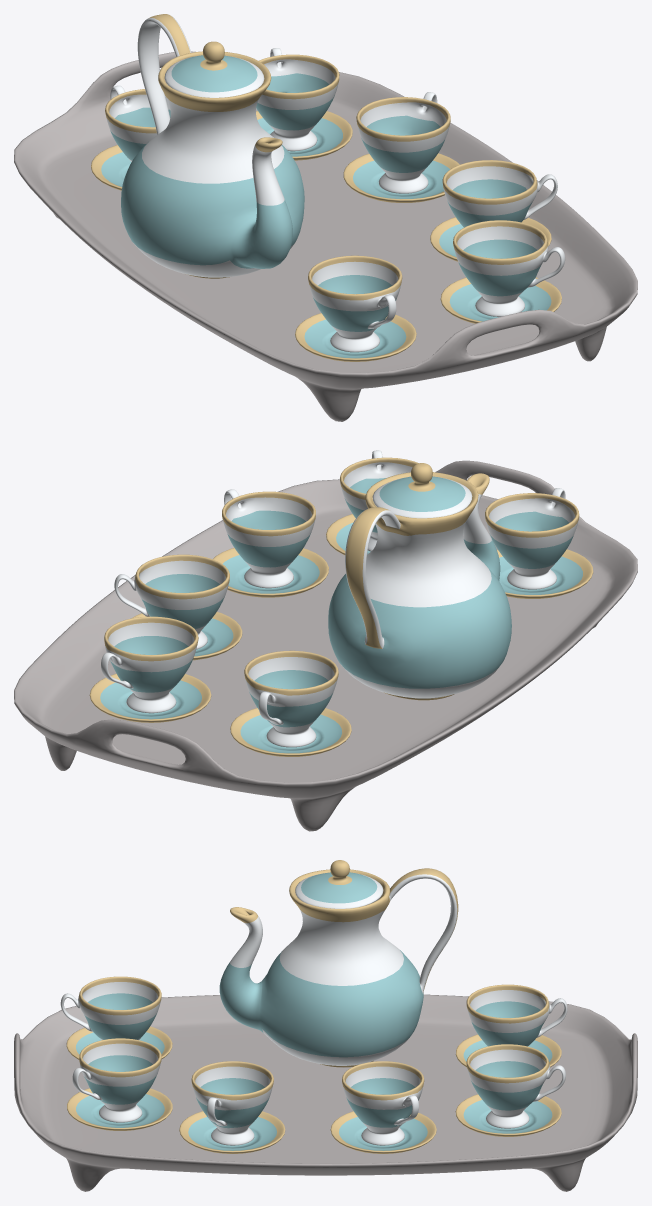
File: obj_tea_set_367676.glb
The picture shows the model from 3 angles, top to bottom: view 1: azimuth 30°, elevation 25°; view 2: azimuth 150°, elevation 25°; view 3: azimuth 270°, elevation 25°; orthographic projection. The views are drawn at different scales.
Parts seen in each view (by area): view 1: obj_tea_set_367676; view 2: obj_tea_set_367676; view 3: obj_tea_set_367676.
Boxes of the visible parts, bbox=[...] form: obj_tea_set_367676: bbox=[14, 14, 637, 421]; obj_tea_set_367676: bbox=[14, 450, 637, 831]; obj_tea_set_367676: bbox=[14, 860, 637, 1191].
Size of the model in its own units: 0.1953 by 0.1232 by 0.3.
